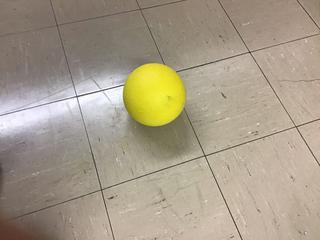power_cell: (121, 65, 184, 127)
